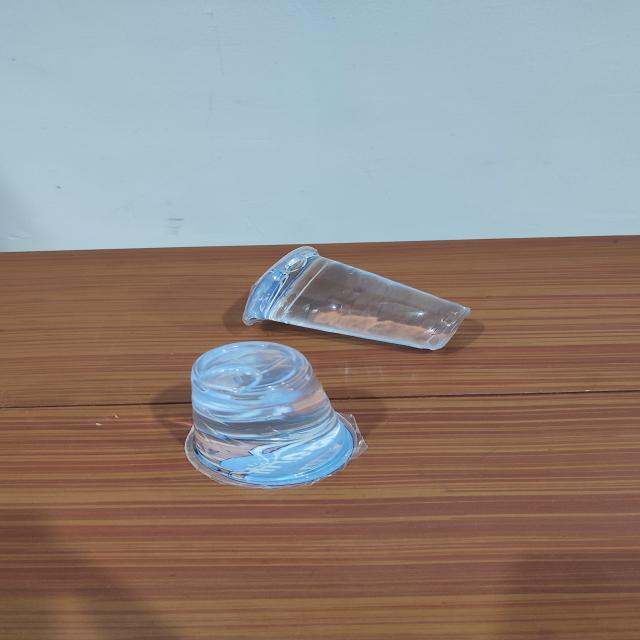air gelas: (157, 339, 385, 485), (231, 244, 488, 358)
